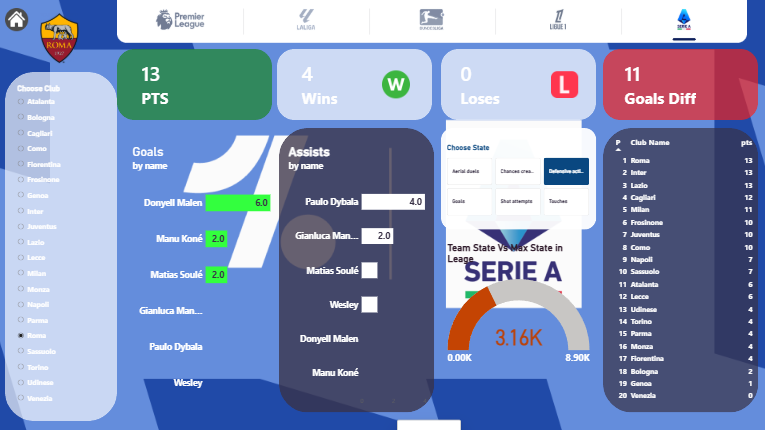

What the dashboard file says about the page in this screenshot:
{"tool":"powerbi","page":{"name":"T_Premier","canvas":[1920,1080],"ordinal":2},"visuals":[{"type":"shape","box":[1108,320,388,254],"z":0},{"type":"shape","box":[702.7,321,388.2,711.3],"z":1000},{"type":"shape","box":[1511.6,321,388.2,711.3],"z":2000},{"type":"shape","box":[297.5,122.5,387.5,177.5],"z":3000},{"type":"image","box":[297.5,0,1575,107.5],"z":4000},{"type":"shape","box":[17.5,180,280,872.5],"z":5000},{"type":"slicer","fields":{"Values":["Teams_All.name"]},"box":[40,210,280,842.5],"z":6000},{"type":"pivotTable","fields":{"Columns":["Top 5 Leagues.Logo URL"]},"box":[55,15,195,215],"z":7000},{"type":"cardVisual","fields":{"Data":["Sum(Teams_All.pts)"]},"box":[342.5,145,260,130],"z":8000},{"type":"shape","box":[697.5,122.5,387.5,177.5],"z":9000},{"type":"shape","box":[1107.5,122.5,387.5,177.5],"z":10000},{"type":"shape","box":[1512.5,122.5,387.5,177.5],"z":11000},{"type":"cardVisual","fields":{"Data":["Sum(Teams_All.wins)"]},"box":[742.5,145,260,130],"z":12000},{"type":"cardVisual","fields":{"Data":["Sum(Teams Dim.losses)"]},"box":[1140,145,260,130],"z":13000},{"type":"cardVisual","fields":{"Data":["Sum(Teams_All.goalConDiff)"]},"box":[1550,145,260,130],"z":14000},{"type":"image","box":[960,165,70,92.5],"z":15000},{"type":"image","box":[1382.5,165,67.5,92.5],"z":16000},{"type":"tableEx","fields":{"Values":["Measures (2).League Rank","Teams_All.name","Teams_All.pts"]},"box":[1511.9,321.1,398,729.2],"z":17000},{"type":"clusteredBarChart","fields":{"Category":["Player_Dim.name"],"Y":["Measures (2).Goals"]},"box":[321,347,377.3,685.3],"z":18000},{"type":"clusteredBarChart","fields":{"Category":["Player_Dim.name"],"Y":["Measures (2).Assists"]},"box":[709.2,347,377.3,685.3],"z":19000},{"type":"advancedSlicerVisual","title":"Choose State","fields":{"Values":["Facts Table.trait_title"]},"box":[1126,346,356,182],"z":20000},{"type":"gauge","title":"Team State Vs Max State in Leage","fields":{"MaxValue":["Measures (2).Sum of trait_value max per teamId"],"Y":["Sum(Facts Table.trait_value)"]},"box":[1107.5,645,387.5,387.5],"z":21000},{"type":"image","box":[17.5,15,57.5,67.5],"z":22000},{"type":"actionButton","box":[625,0,295,107.5],"z":23000},{"type":"actionButton","box":[937.5,0,295,107.5],"z":24000},{"type":"actionButton","box":[1247.5,0,305,107.5],"z":25000},{"type":"actionButton","box":[1567.5,0,305,107.5],"z":26000}]}

Visuals, with their boxes in screenshot pixels (x1, y1, x2, y2), scaled from the page's 1920x1080 canvas onto the 765x430 screenshot:
shape: <region>441, 127, 596, 229</region>
shape: <region>280, 128, 435, 411</region>
shape: <region>602, 128, 757, 411</region>
shape: <region>119, 49, 273, 119</region>
image: <region>119, 0, 746, 43</region>
shape: <region>7, 72, 119, 419</region>
slicer - Teams_All.name: <region>16, 84, 128, 419</region>
pivotTable - Top 5 Leagues.Logo URL: <region>22, 6, 100, 92</region>
cardVisual - Sum(Teams_All.pts): <region>136, 58, 240, 109</region>
shape: <region>278, 49, 432, 119</region>
shape: <region>441, 49, 596, 119</region>
shape: <region>603, 49, 757, 119</region>
cardVisual - Sum(Teams_All.wins): <region>296, 58, 399, 109</region>
cardVisual - Sum(Teams Dim.losses): <region>454, 58, 558, 109</region>
cardVisual - Sum(Teams_All.goalConDiff): <region>618, 58, 721, 109</region>
image: <region>382, 66, 410, 103</region>
image: <region>551, 66, 578, 103</region>
tableEx - Measures (2).League Rank x Teams_All.name: <region>602, 128, 761, 418</region>
clusteredBarChart - Player_Dim.name x Measures (2).Goals: <region>128, 138, 278, 411</region>
clusteredBarChart - Player_Dim.name x Measures (2).Assists: <region>283, 138, 433, 411</region>
"Choose State" advancedSlicerVisual: <region>449, 138, 590, 210</region>
"Team State Vs Max State in Leage" gauge: <region>441, 257, 596, 411</region>
image: <region>7, 6, 30, 33</region>
actionButton: <region>249, 0, 367, 43</region>
actionButton: <region>374, 0, 491, 43</region>
actionButton: <region>497, 0, 619, 43</region>
actionButton: <region>625, 0, 746, 43</region>
